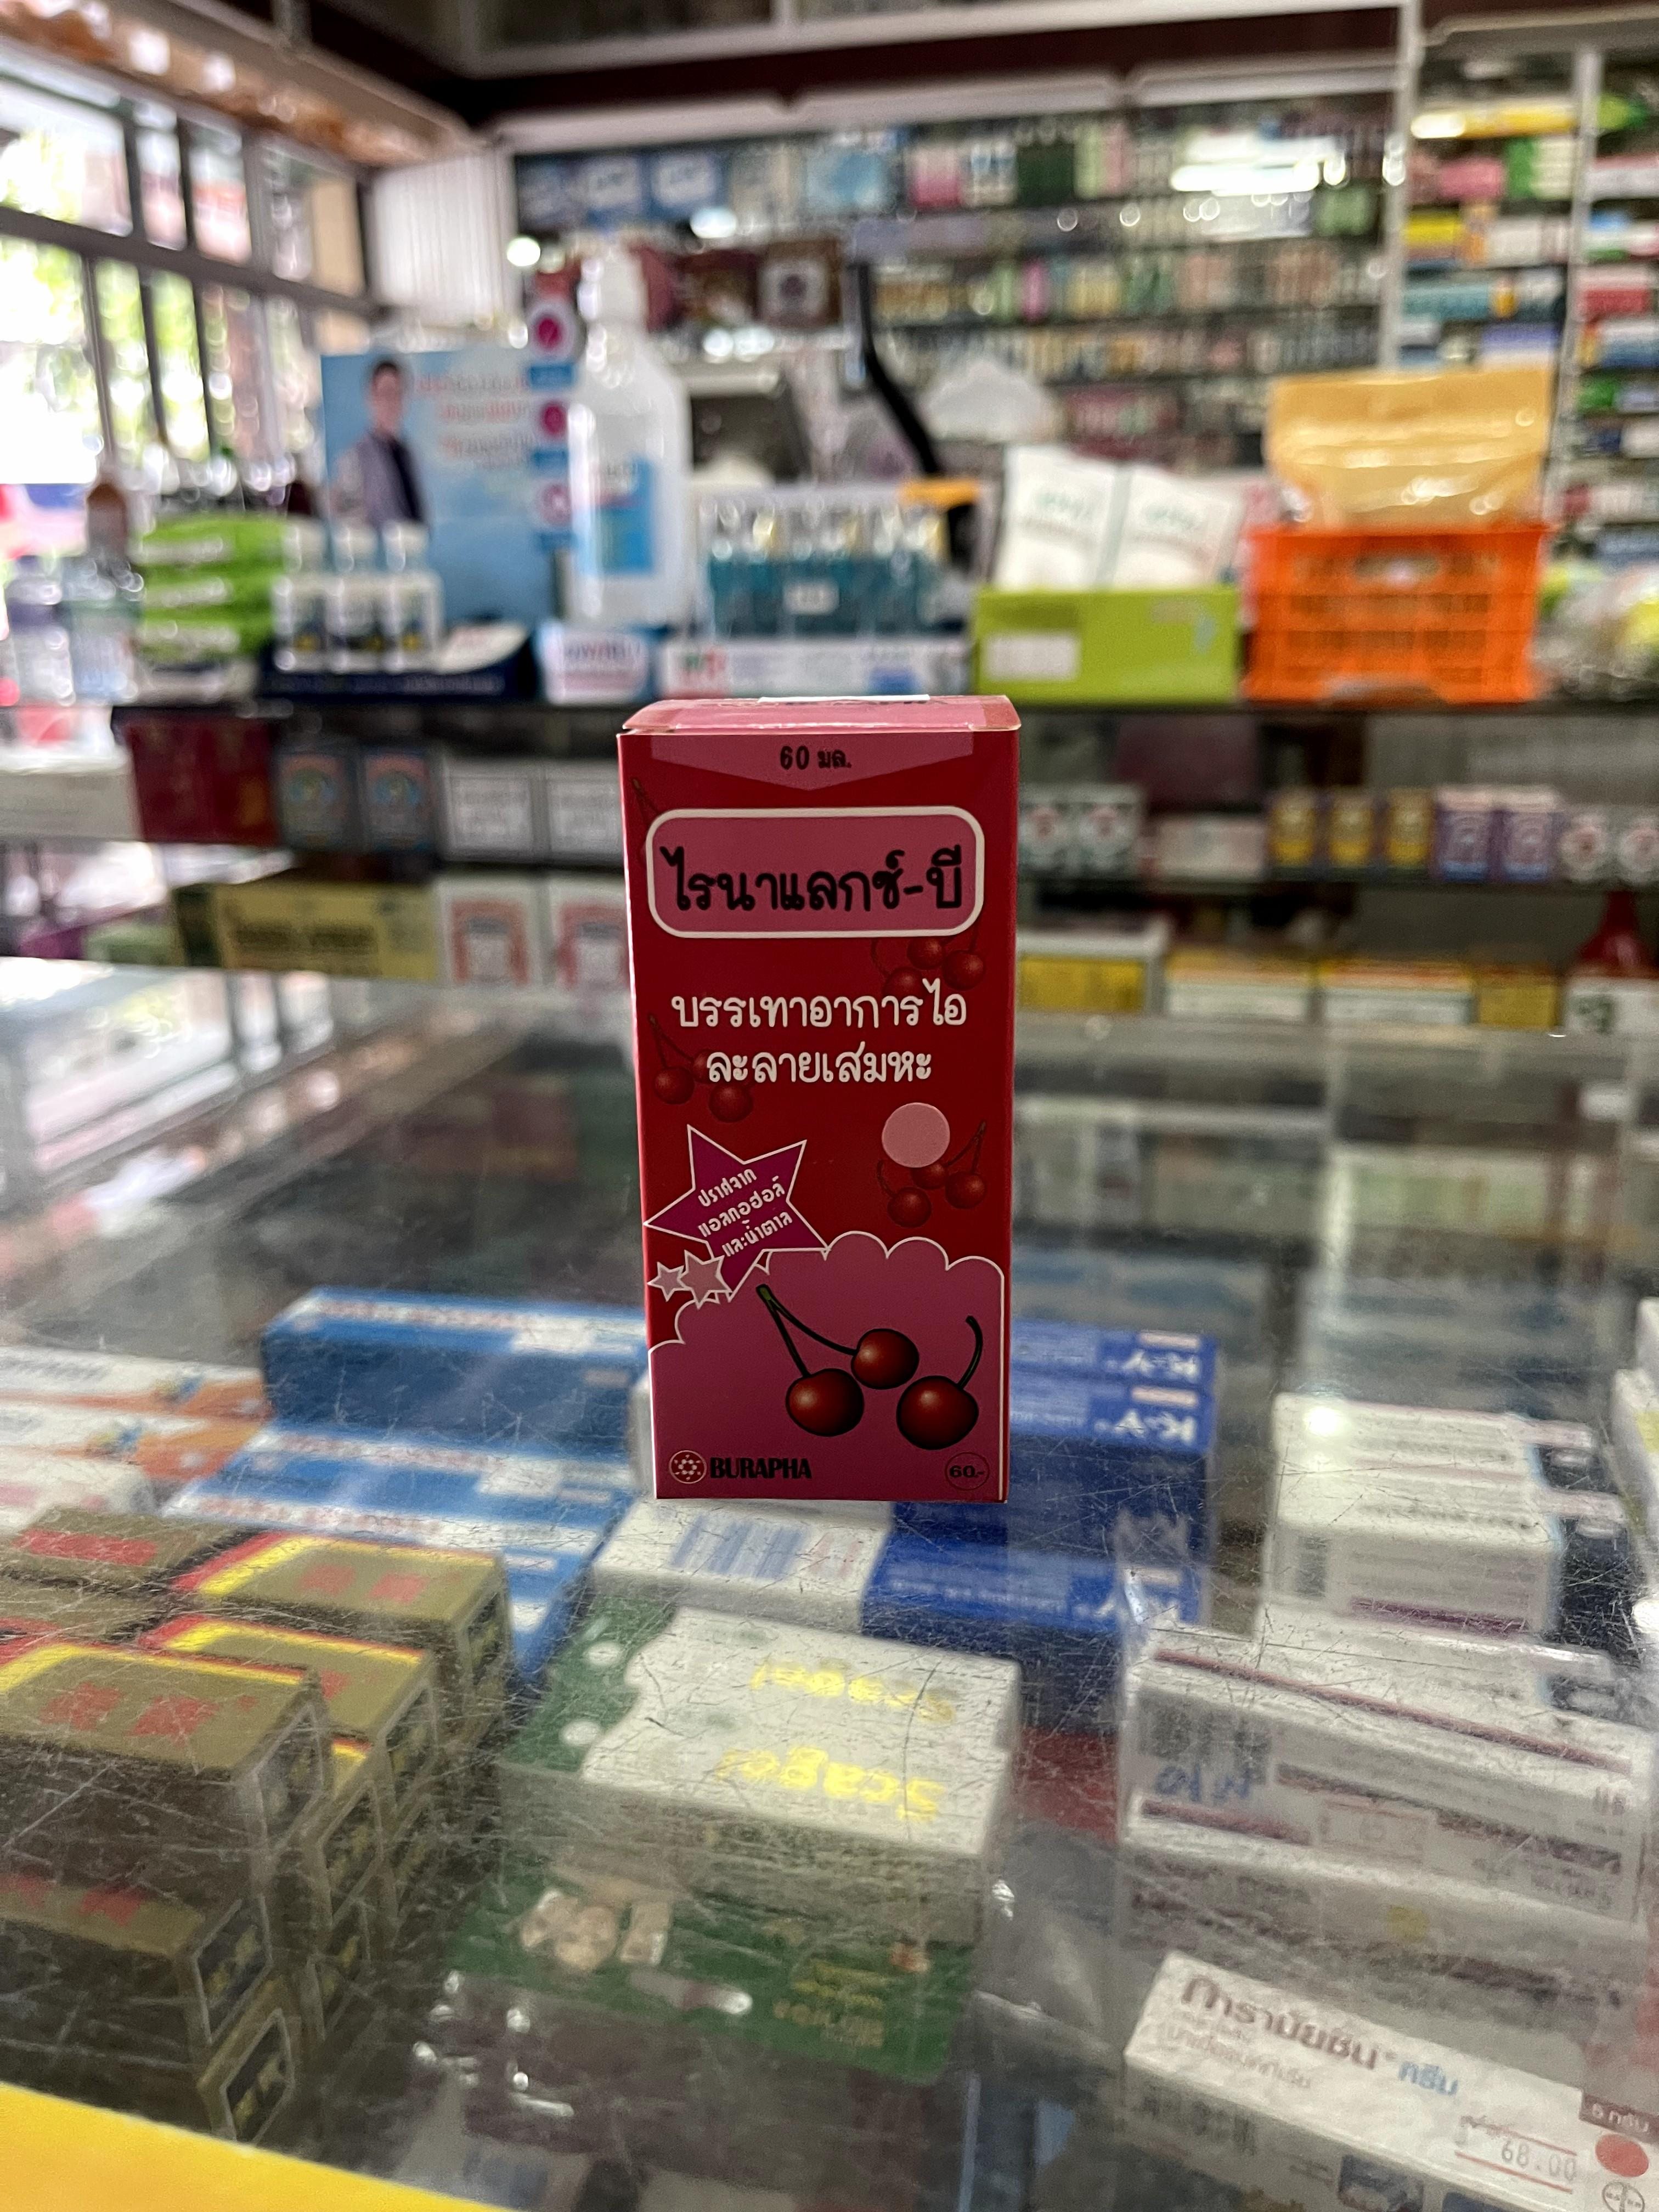Rhinalax-B: (626, 700, 1021, 1500)
